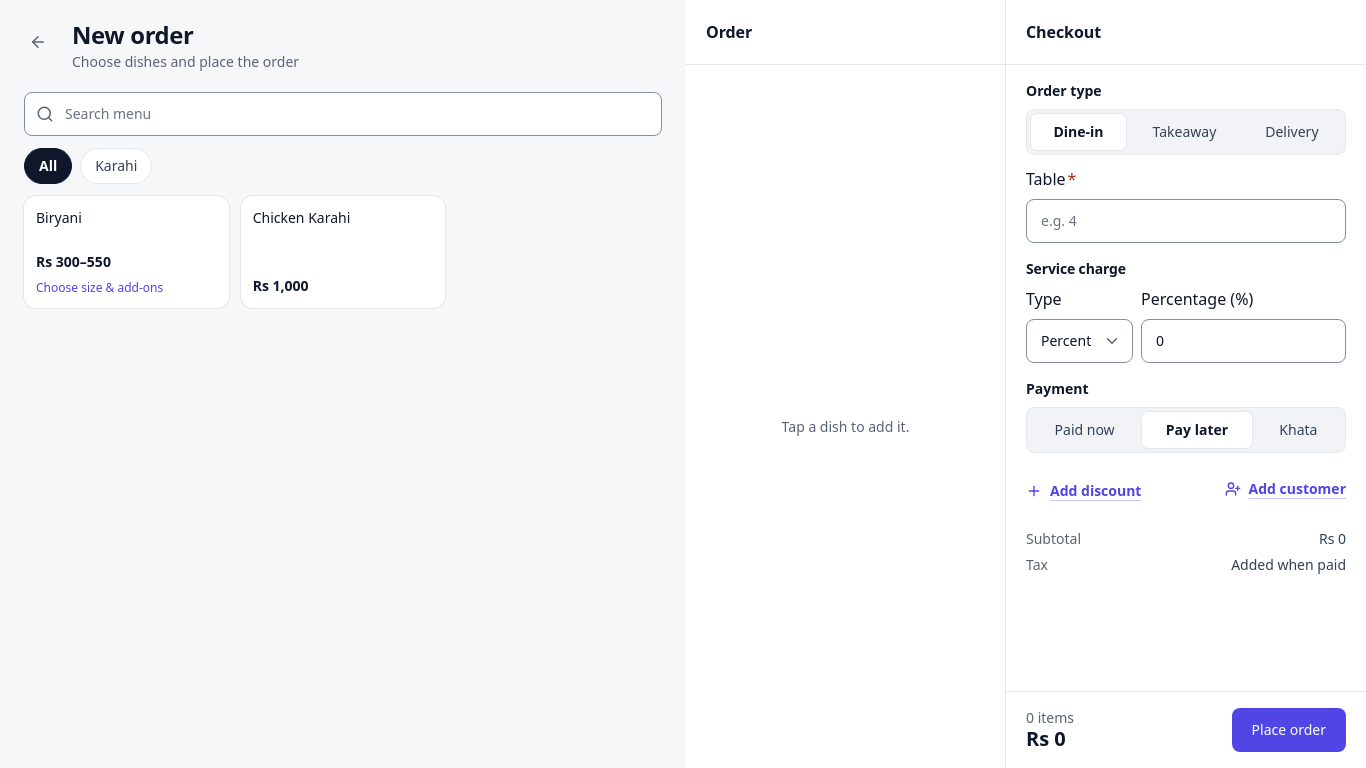
Test: New order (desktop) › fills the address when the delivery customer is picked afterward
Expected: the text "Chicken Karahi" is shown, [253,208,350,228]
Click the button "Chicken Karahi Rs 1,000" at (343, 252), box [241,196,445,308]
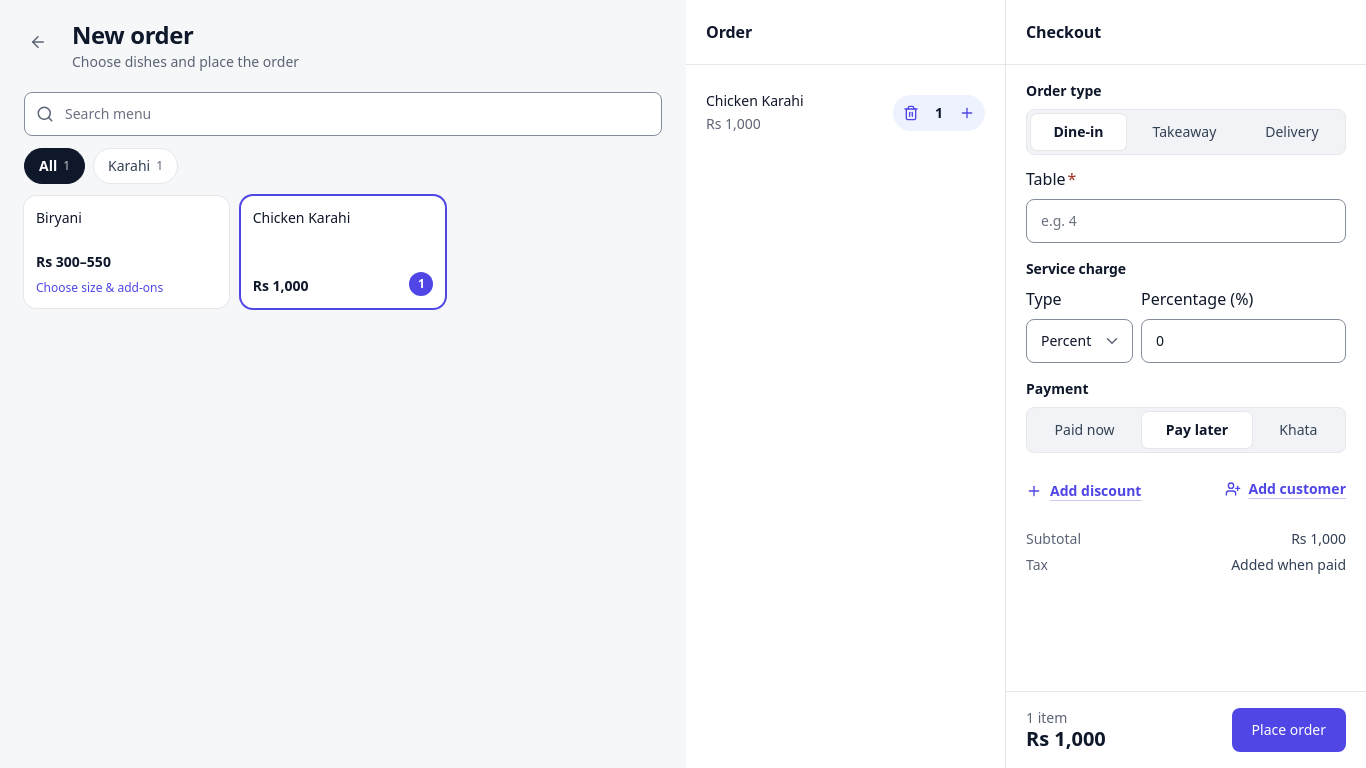
Click the radio button labelled "Delivery" at (1292, 132), box [1265,122,1319,141]
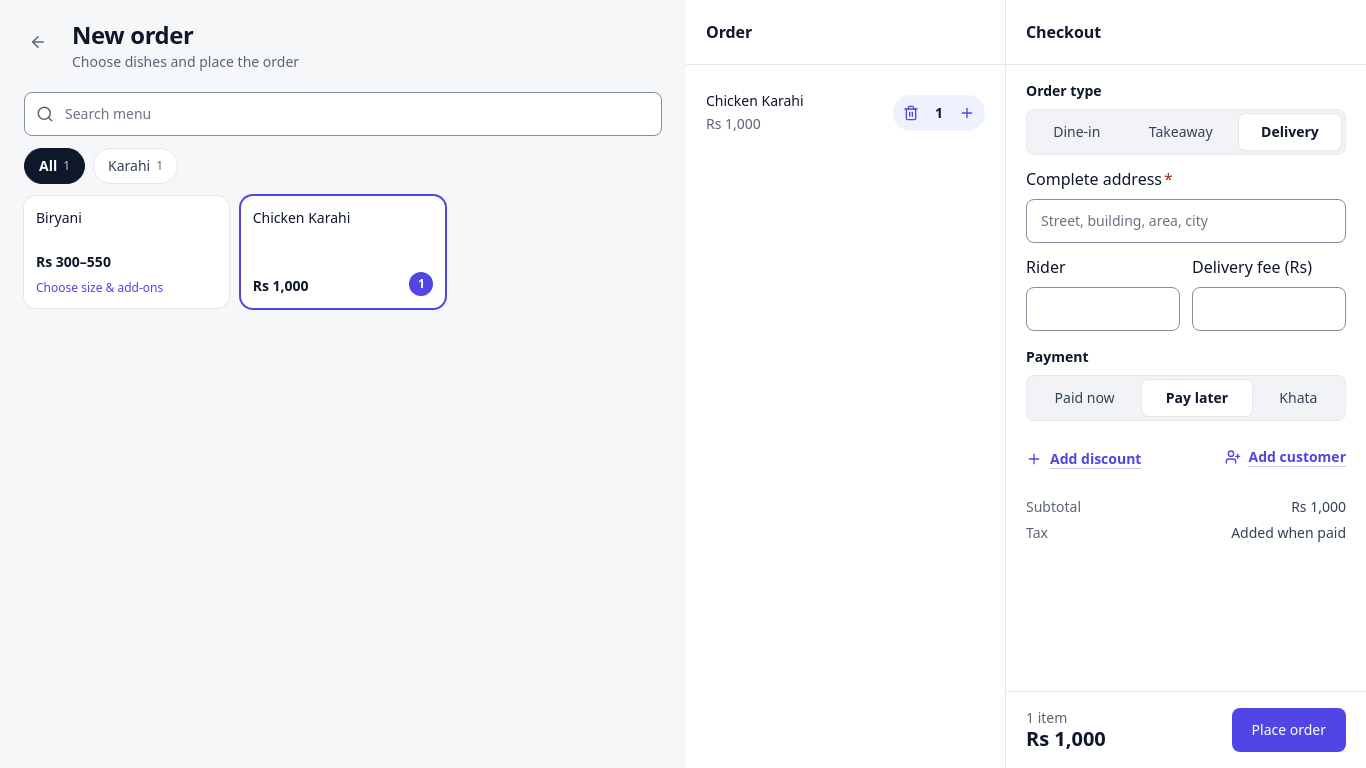
Click the button "Add customer" at (1285, 457), box [1224,447,1346,467]
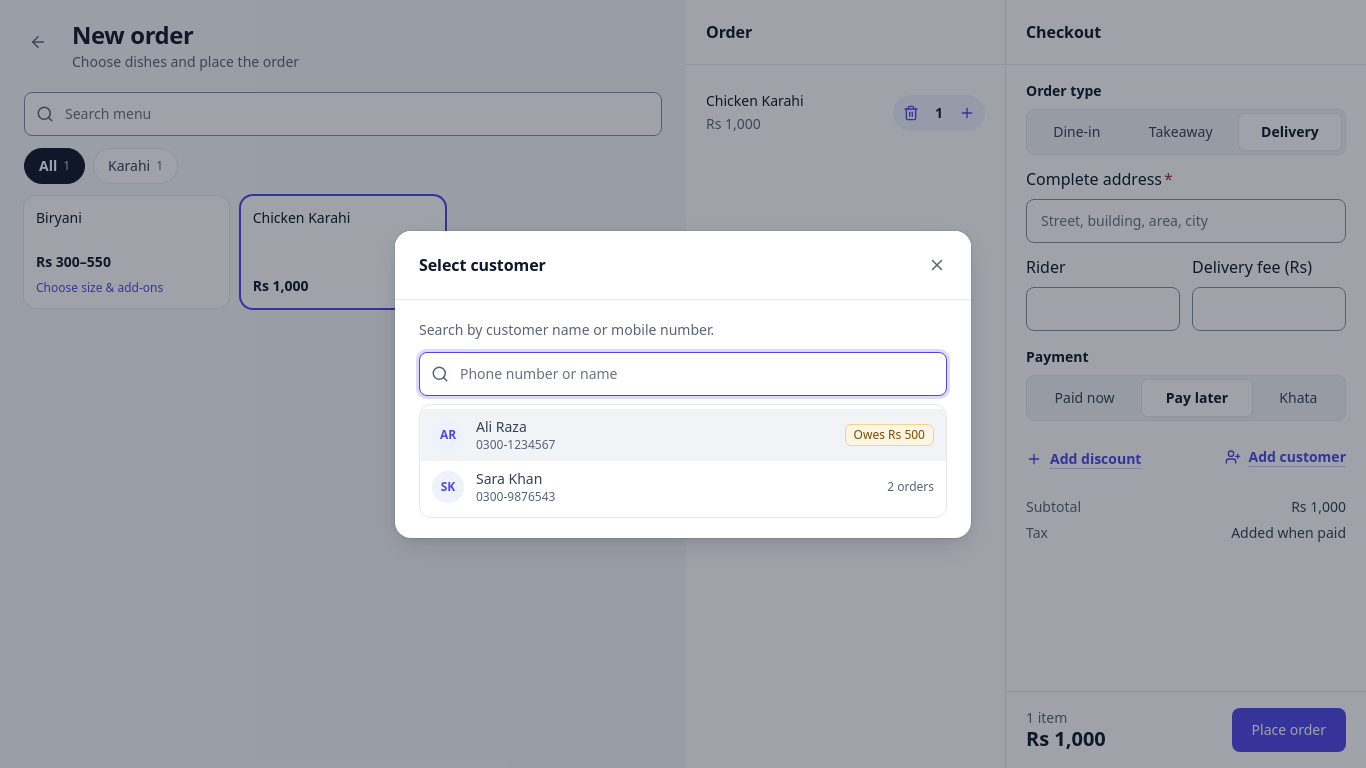
Type "ali" into the dropdown named "find customer" at (683, 374), box [419,352,947,396]
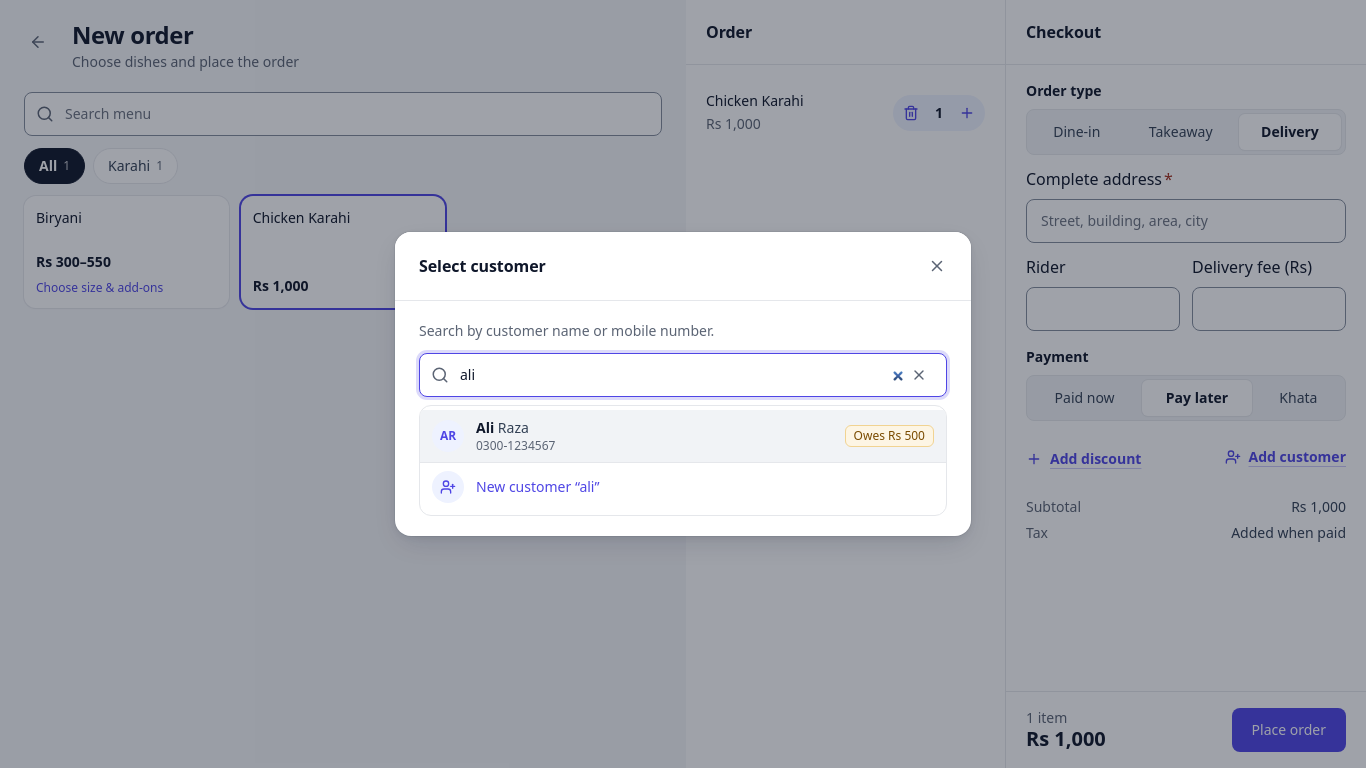
Click the option "AR Ali Raza 0300-1234567 Owes Rs 500" at (448, 436), box [420,410,946,462]
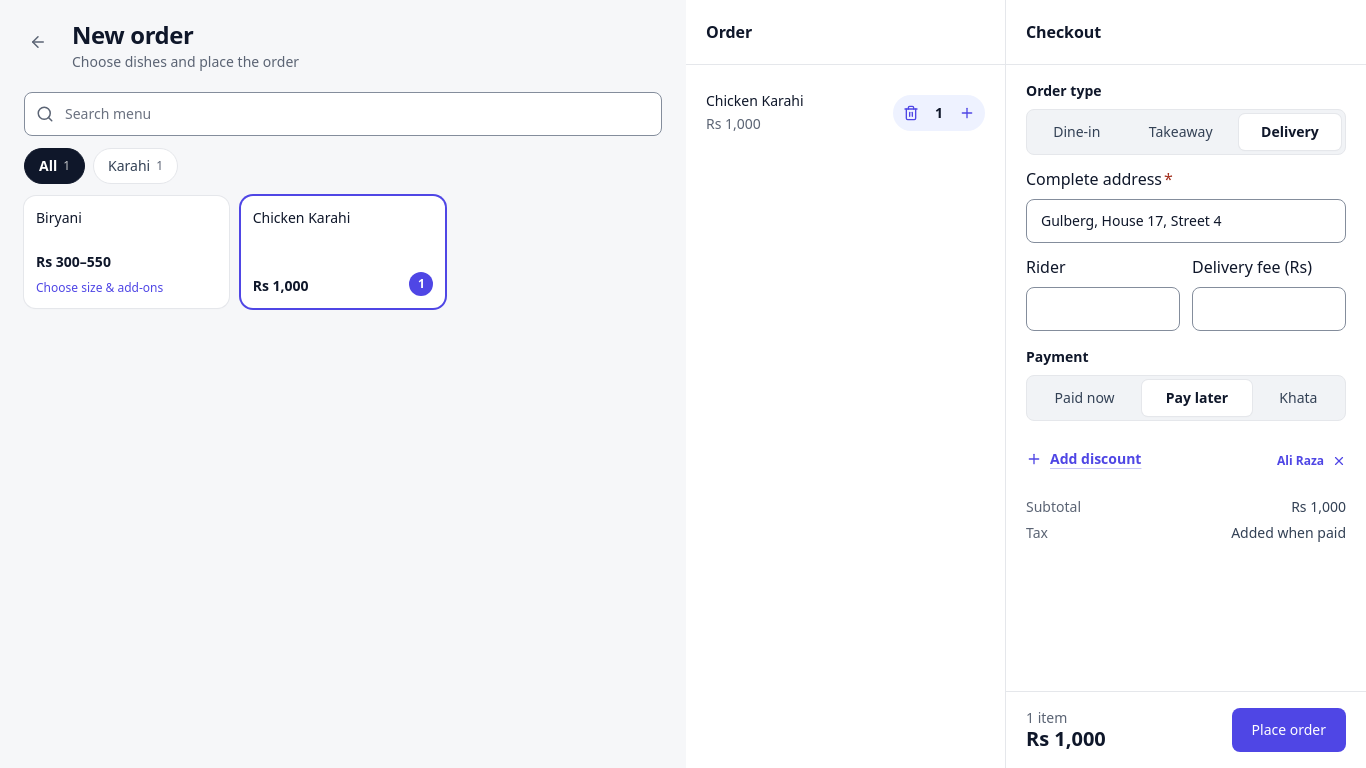
Expected: the field labelled "Complete address*" holds "Gulberg, House 17, Street 4", [1026,199,1346,243]
